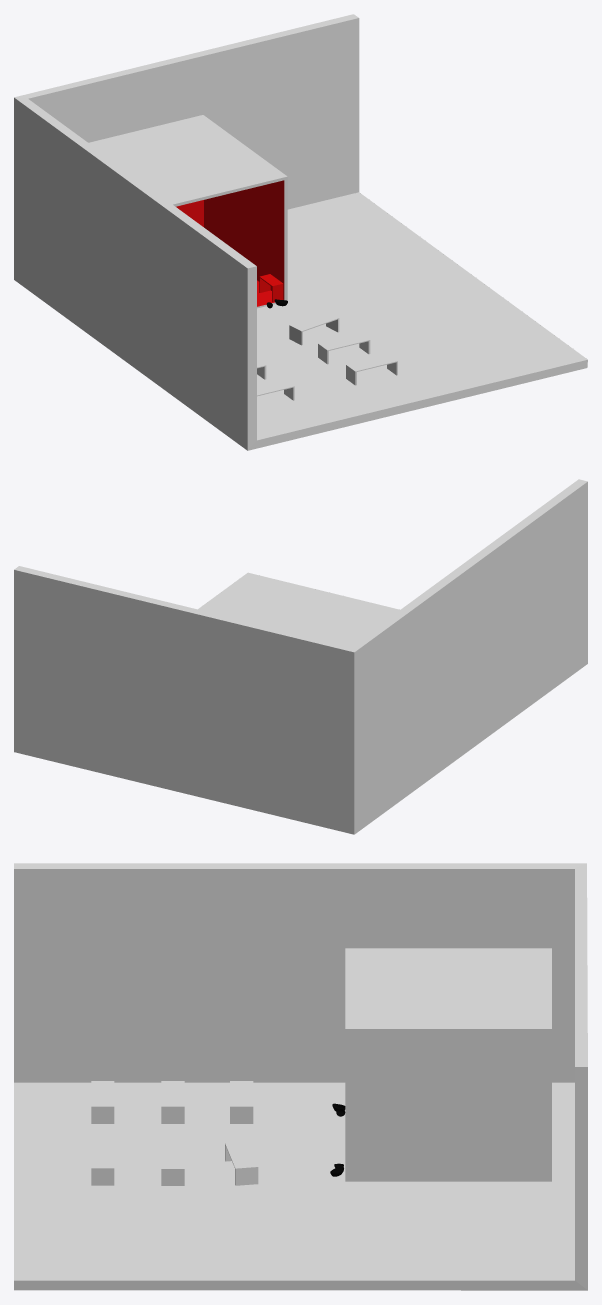
The model's file is RR_Baked_Final.glb.
The picture shows the model from 3 angles, top to bottom: view 1: azimuth 30°, elevation 25°; view 2: azimuth 150°, elevation 25°; view 3: azimuth 270°, elevation 25°; orthographic projection. The views are drawn at different scales.
Parts seen in each view (by area): view 1: Floor, Stage, Cube.001, Cube.003, Cube.006; view 2: Floor, Stage; view 3: Floor, Stage, Cube.001, Cube.002, Cube.004, Cube.005, Cube.003, Cube.006.
Boxes of the visible parts, x1,y1,x2,y2 form: Floor: [14, 14, 587, 450]; Stage: [88, 115, 287, 308]; Cube.001: [289, 312, 339, 345]; Cube.003: [318, 333, 370, 364]; Cube.006: [346, 354, 397, 385]; Floor: [14, 479, 587, 834]; Stage: [235, 587, 392, 646]; Floor: [14, 863, 587, 1290]; Stage: [345, 948, 551, 1181]; Cube.001: [225, 1141, 258, 1185]; Cube.002: [230, 1081, 253, 1123]; Cube.004: [161, 1081, 184, 1123]; Cube.005: [91, 1081, 114, 1123]; Cube.003: [161, 1143, 184, 1185]; Cube.006: [91, 1143, 114, 1185].
Size of the model in its own units: 51.1 by 26.18 by 60.9.
